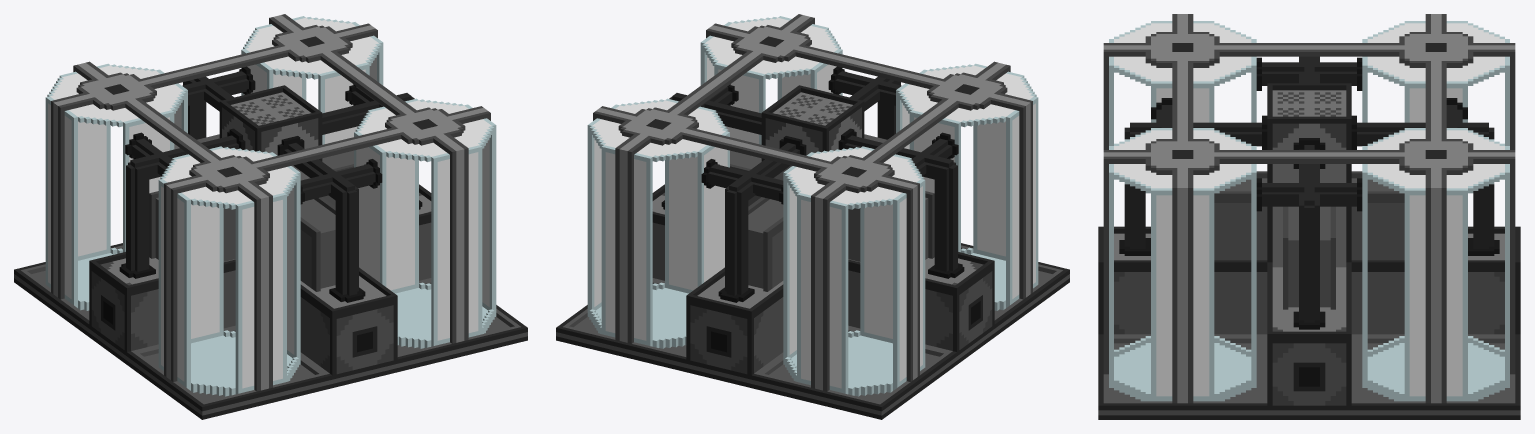
The model's file is Matter_Shatterer.obj.
3 renders of one model, left to right at view 1: azimuth 30°, elevation 25°; view 2: azimuth 150°, elevation 25°; view 3: azimuth 270°, elevation 25°, orthographic. The views are drawn at different scales.
Bounding box in the file's own units: 80 × 48 × 80.
Materials: 1 (1 with a texture image).
